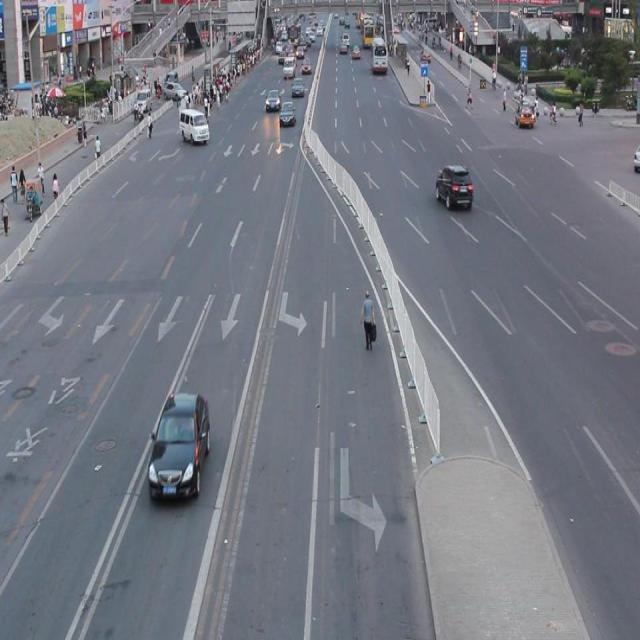car: (147, 390, 209, 502), (435, 162, 472, 212)
